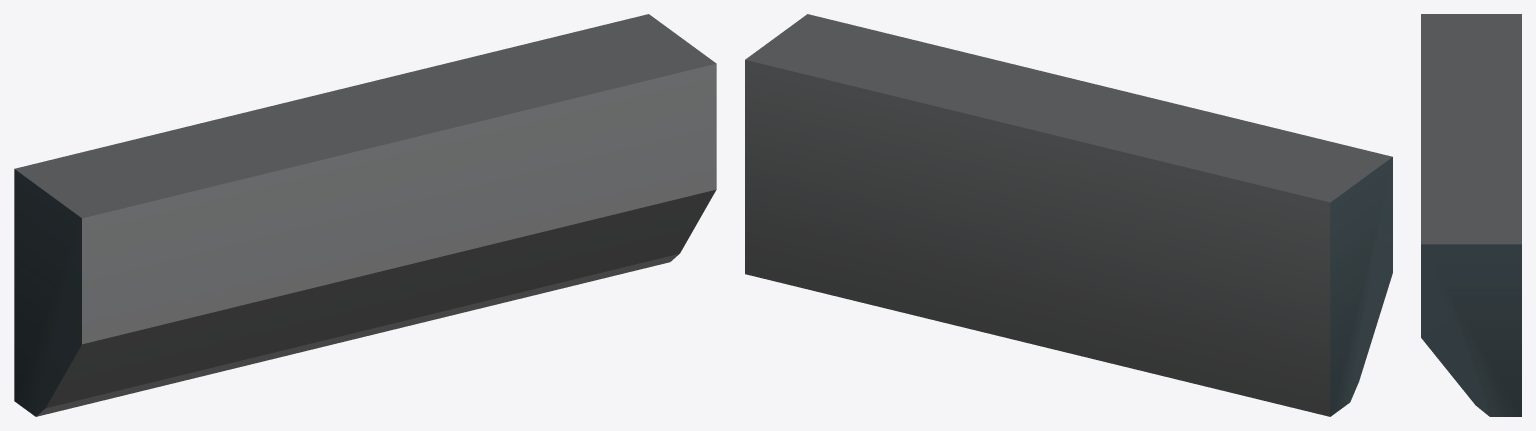
File: Wall_type_B_006.fbx
3 renders of one model, left to right at view 1: azimuth 30°, elevation 25°; view 2: azimuth 150°, elevation 25°; view 3: azimuth 270°, elevation 25°, orthographic. The views are drawn at different scales.
Parts seen in each view (by area): view 1: Wall_type_B_006; view 2: Wall_type_B_006; view 3: Wall_type_B_006.
Boxes of the visible parts, x1,y1,x2,y2 form: Wall_type_B_006: (14, 14, 716, 416); Wall_type_B_006: (745, 14, 1392, 416); Wall_type_B_006: (1421, 14, 1521, 416).
Bounding box in the file's own units: 200 × 37 × 70.
